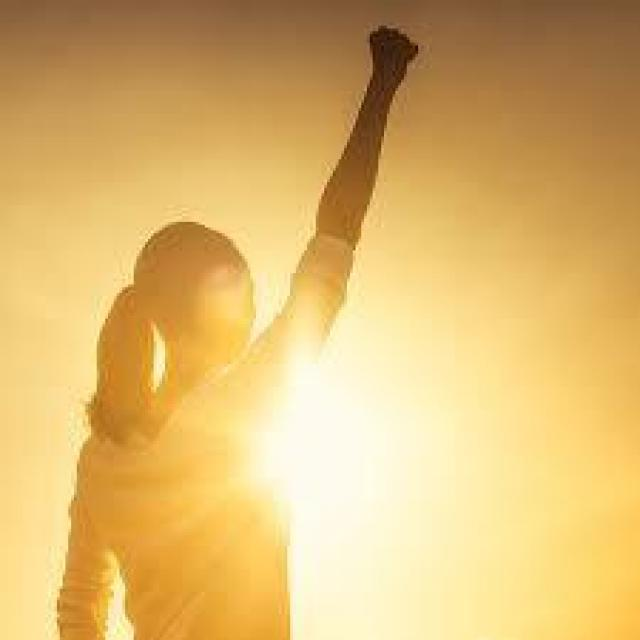person: (80, 26, 418, 637)
